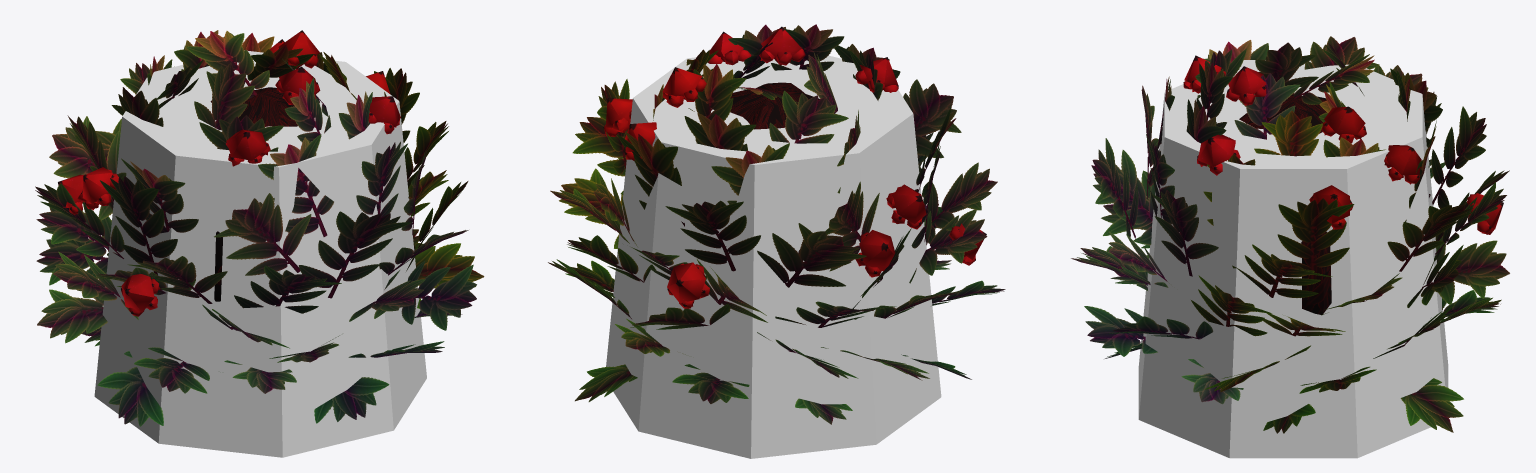
Rendered from IO_BerryBush_Red_A.glb.
The picture shows the model from 3 angles, left to right: view 1: azimuth 30°, elevation 25°; view 2: azimuth 150°, elevation 25°; view 3: azimuth 270°, elevation 25°; orthographic projection.
Visible parts, largest first — view 1: IO_BerryBush_Red_A_COL, IO_BerryBush_Red_A_LOD0, IO_BerryBush_Red_A_LOD2_Berries, IO_BerryBush_Red_A_LOD0_Berries; view 2: IO_BerryBush_Red_A_COL, IO_BerryBush_Red_A_LOD0, IO_BerryBush_Red_A_LOD2_Berries, IO_BerryBush_Red_A_LOD0_Berries; view 3: IO_BerryBush_Red_A_COL, IO_BerryBush_Red_A_LOD0, IO_BerryBush_Red_A_LOD2_Berries, IO_BerryBush_Red_A_LOD0_Berries.
Boxes of the visible parts, left/top/right/bottom form: IO_BerryBush_Red_A_COL: left=94, top=50, right=426, bottom=457; IO_BerryBush_Red_A_LOD0: left=35, top=30, right=484, bottom=426; IO_BerryBush_Red_A_LOD2_Berries: left=58, top=30, right=400, bottom=312; IO_BerryBush_Red_A_LOD0_Berries: left=69, top=48, right=399, bottom=316; IO_BerryBush_Red_A_COL: left=606, top=55, right=941, bottom=458; IO_BerryBush_Red_A_LOD0: left=548, top=24, right=1005, bottom=424; IO_BerryBush_Red_A_LOD2_Berries: left=605, top=26, right=986, bottom=303; IO_BerryBush_Red_A_LOD0_Berries: left=603, top=46, right=975, bottom=308; IO_BerryBush_Red_A_COL: left=1138, top=60, right=1448, bottom=458; IO_BerryBush_Red_A_LOD0: left=1071, top=36, right=1509, bottom=433; IO_BerryBush_Red_A_LOD2_Berries: left=1184, top=55, right=1503, bottom=229; IO_BerryBush_Red_A_LOD0_Berries: left=1183, top=70, right=1494, bottom=234.
Size of what is drawn, in the model's own units: 1.04 by 0.8168 by 1.01.
2 materials, 2 textured.
